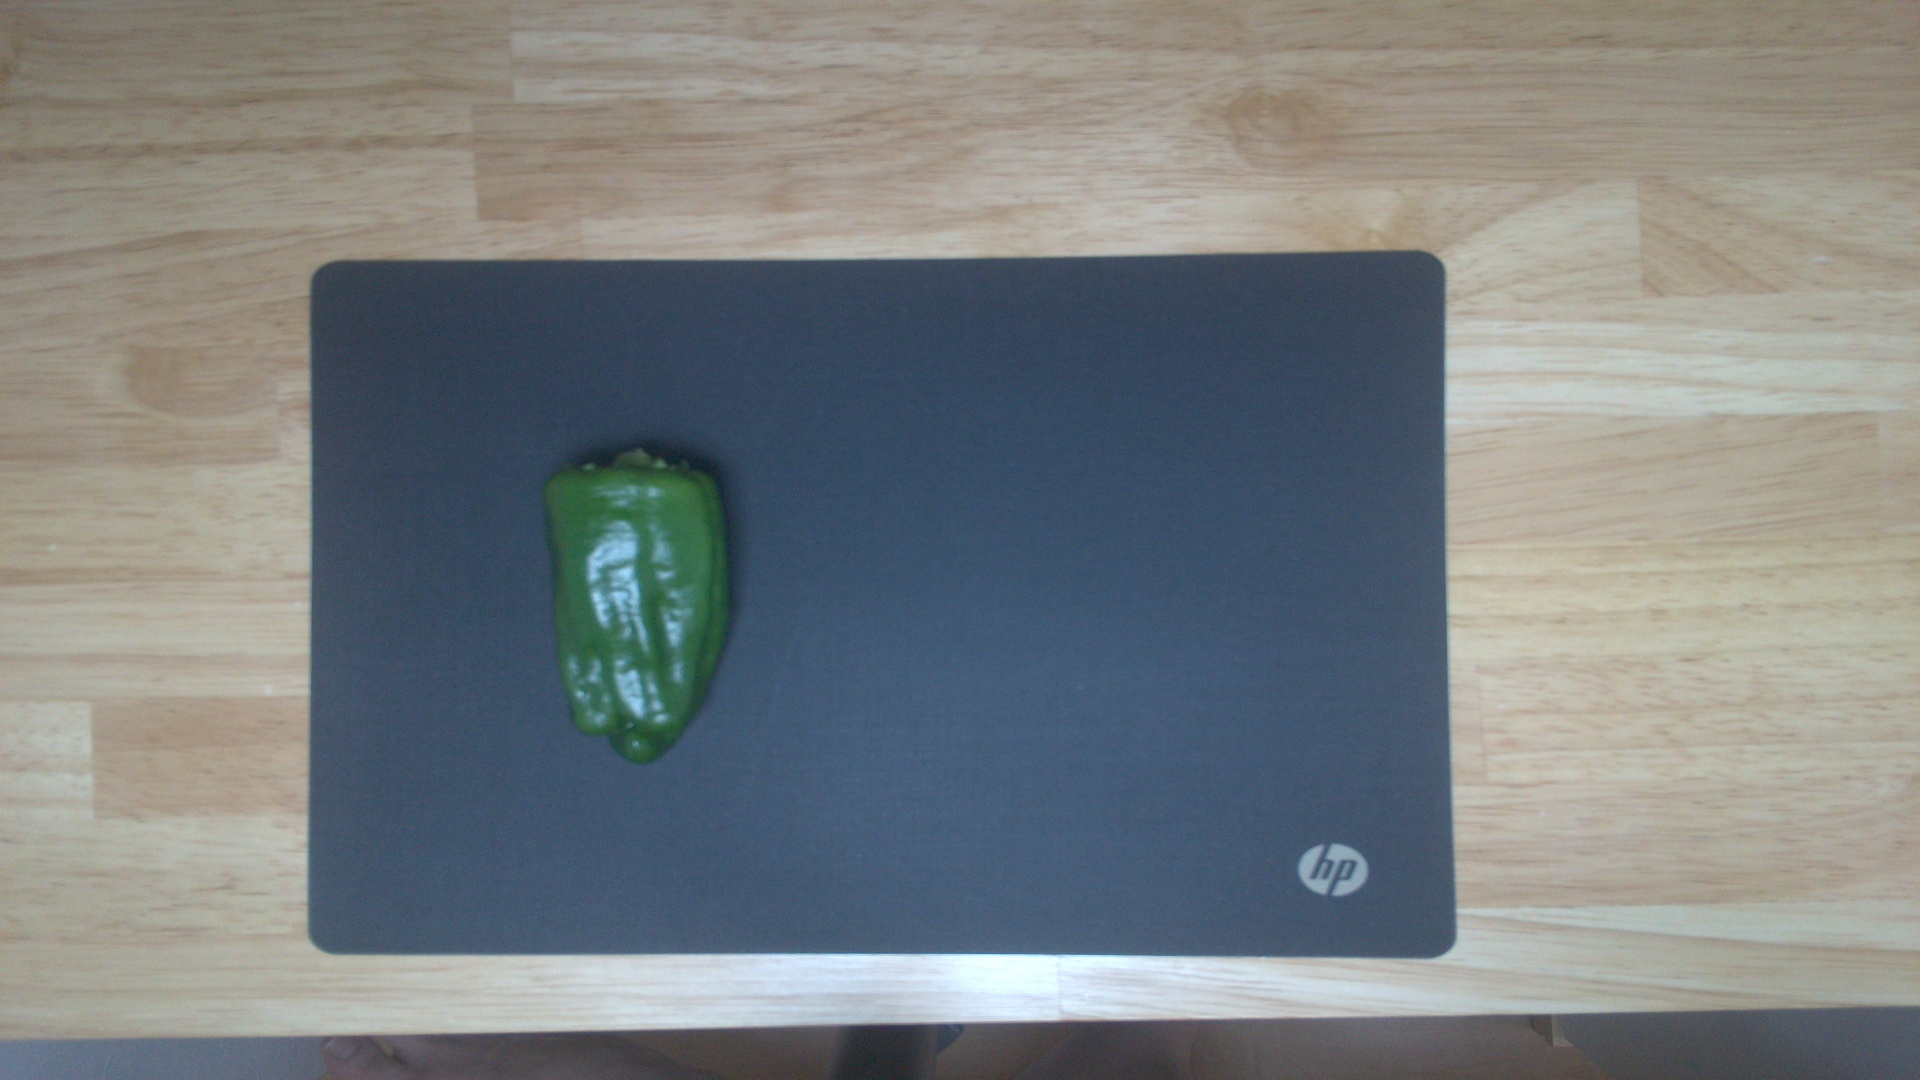Piman: (539, 444, 741, 761)
